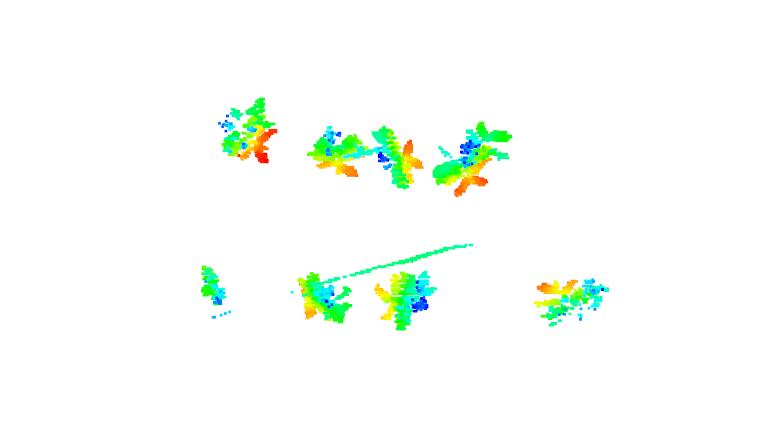chickpea: (430, 120, 515, 198), (377, 265, 435, 332), (220, 96, 275, 165), (538, 276, 607, 330), (294, 267, 353, 327), (307, 124, 368, 179), (372, 125, 422, 190), (197, 261, 228, 311)
